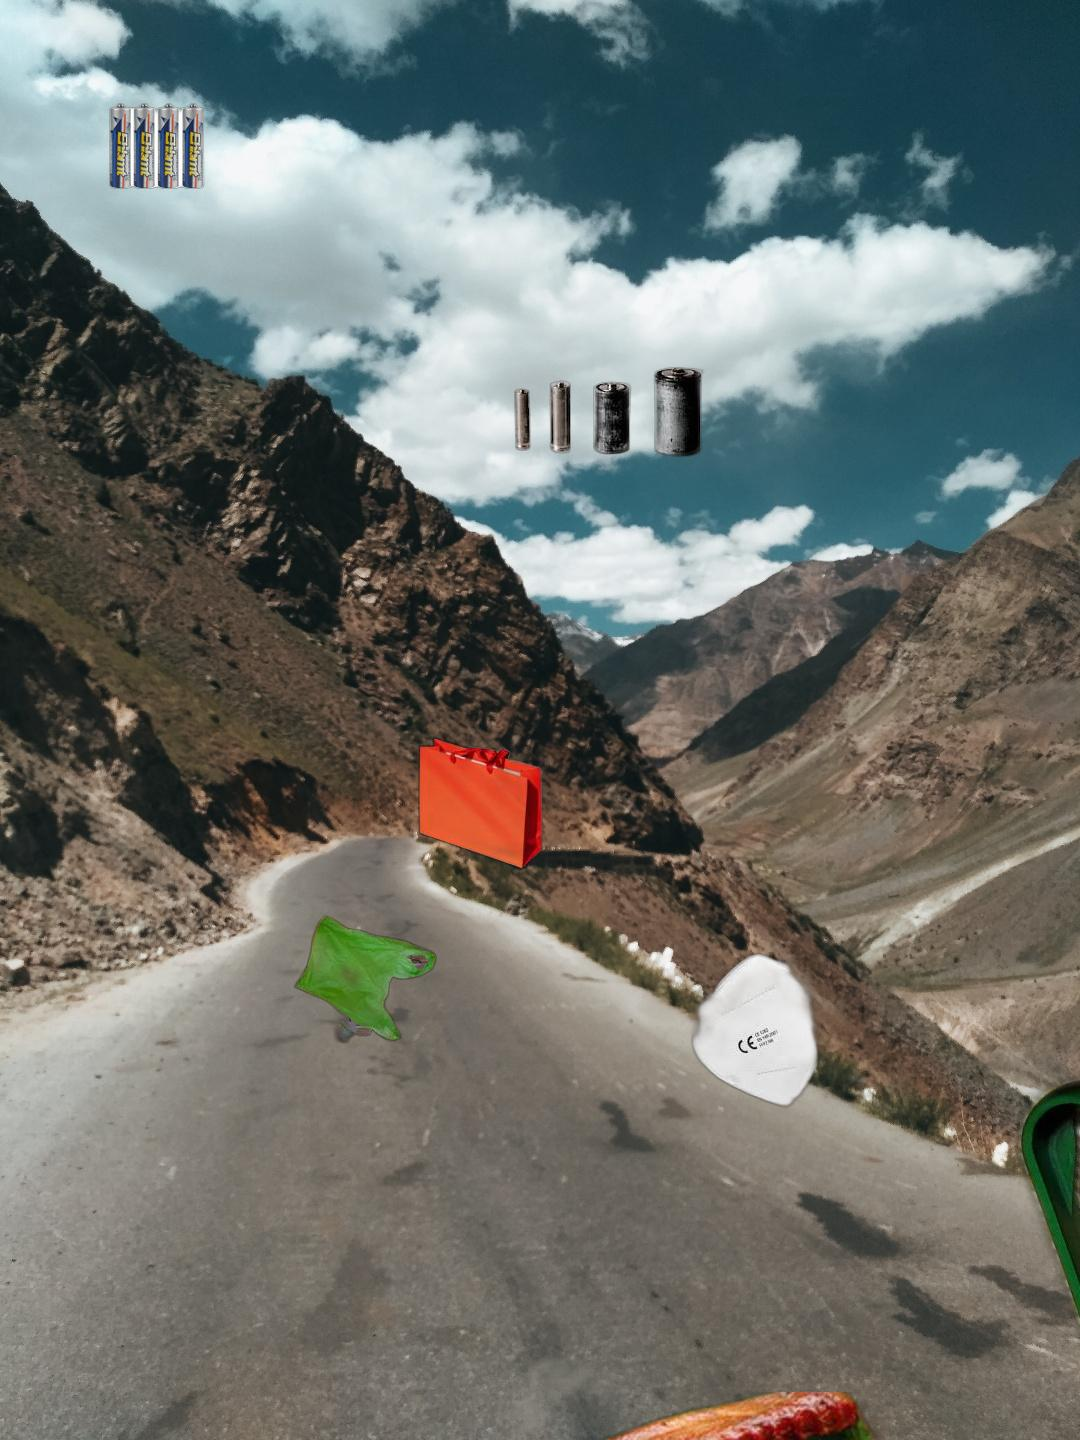battery: (512, 365, 706, 460), (107, 101, 206, 192)
biological: (479, 1392, 1080, 1440)
paper-bag: (417, 615, 682, 893)
penholder: (815, 696, 1080, 1440)
plastic-bag: (292, 913, 439, 1047)
trash: (630, 927, 837, 1111)
